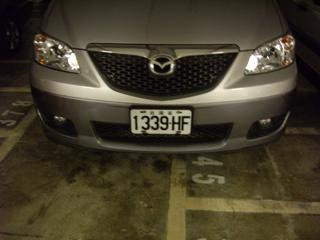plate: (127, 106, 193, 136)
